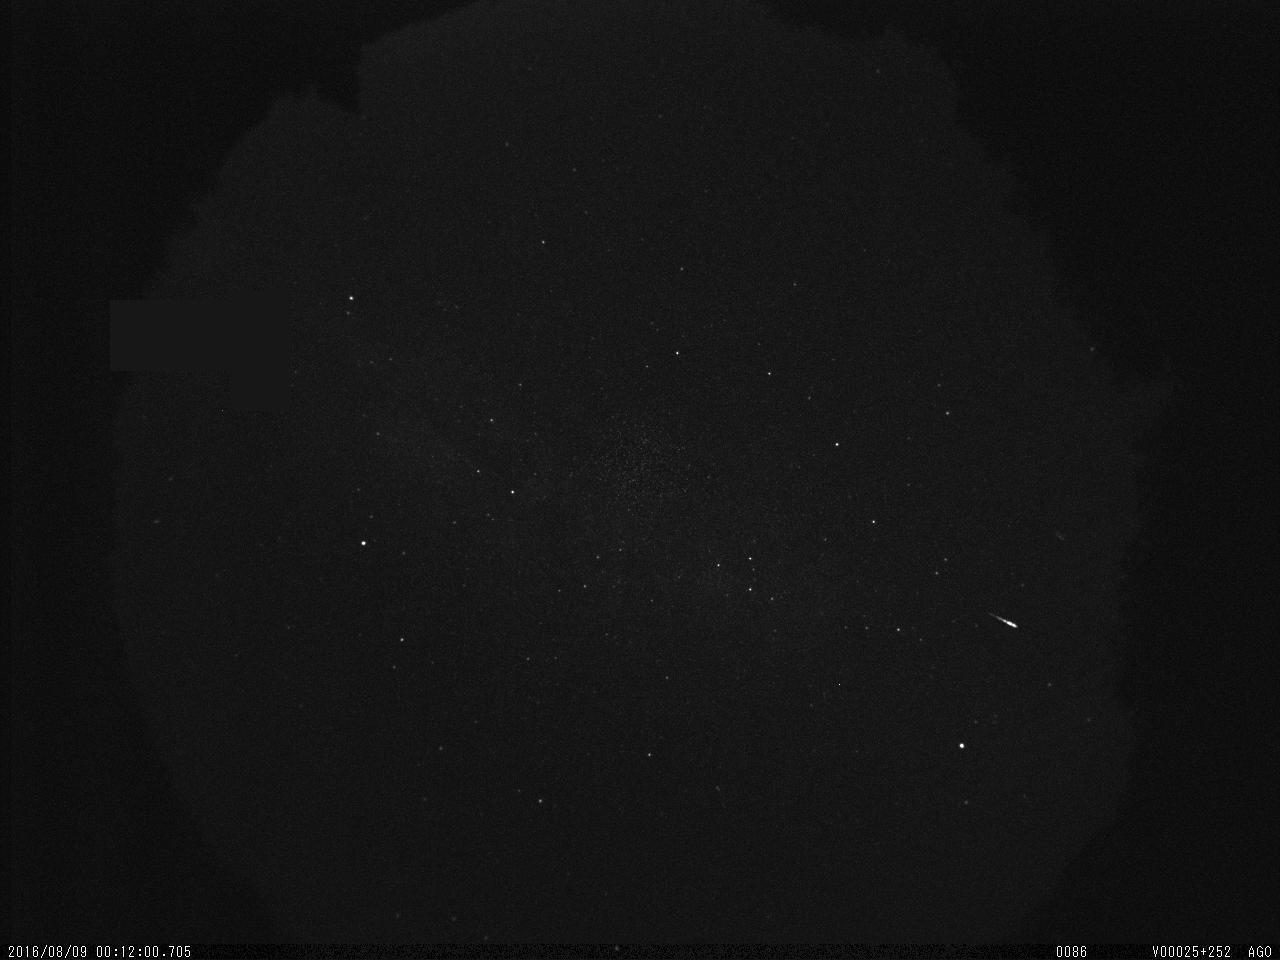meteor: (978, 604, 1025, 636)
